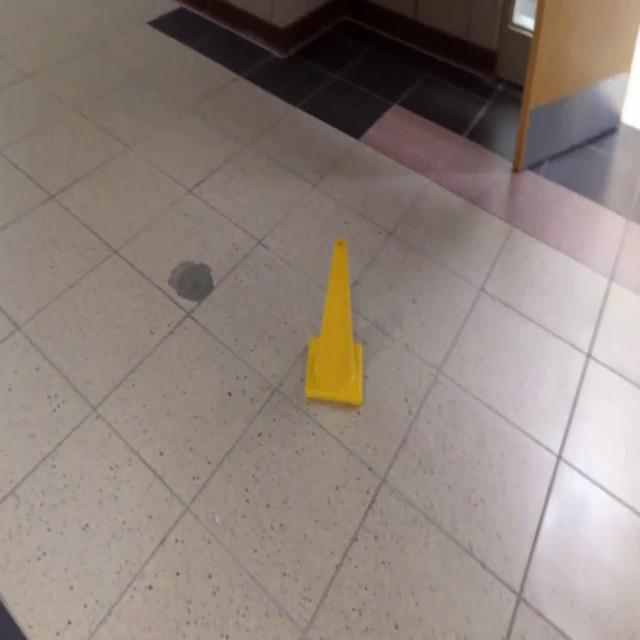frc_cone: (303, 237, 375, 412)
